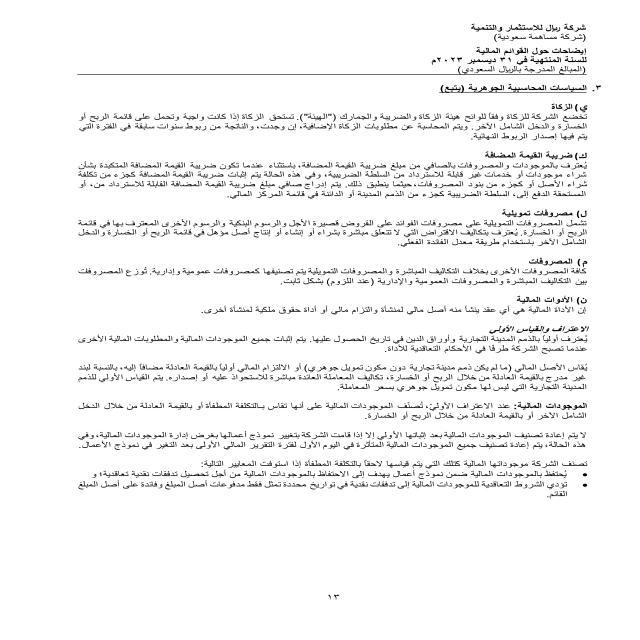notes: (475, 45, 592, 56)
text: (69, 80, 604, 514)
